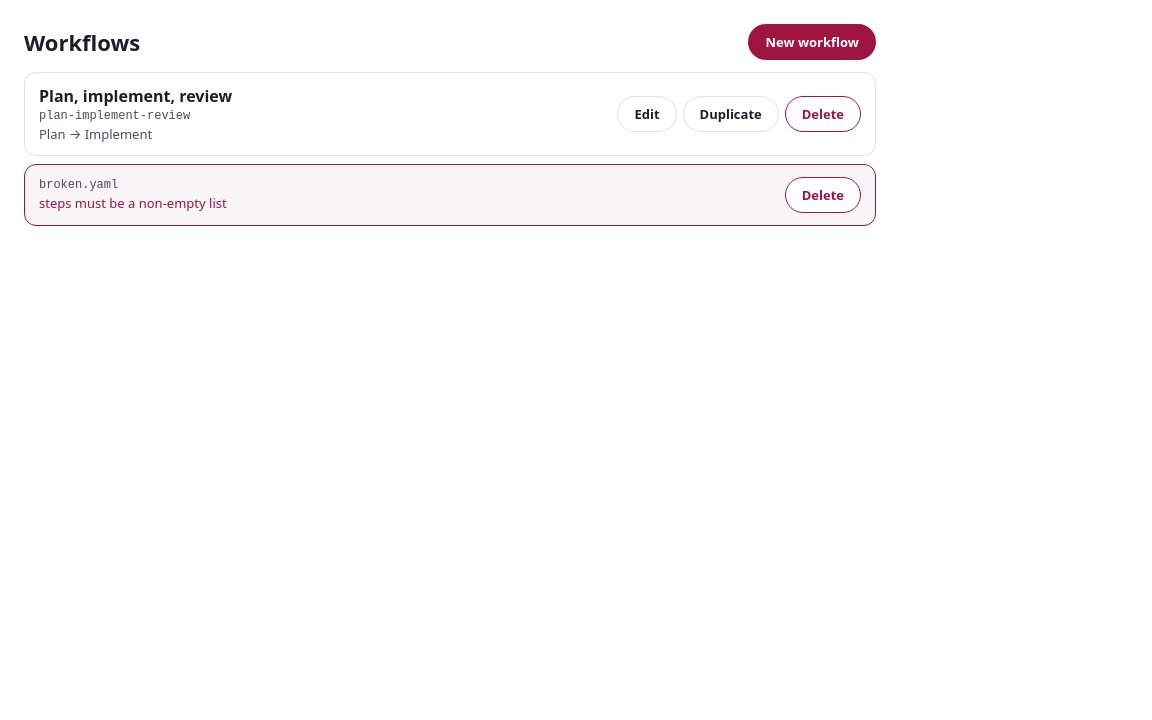
Test: WorkflowList › shows a delete error
Click the button with aria-label "Delete Plan, implement, review": (823, 114) [785,96,861,132]
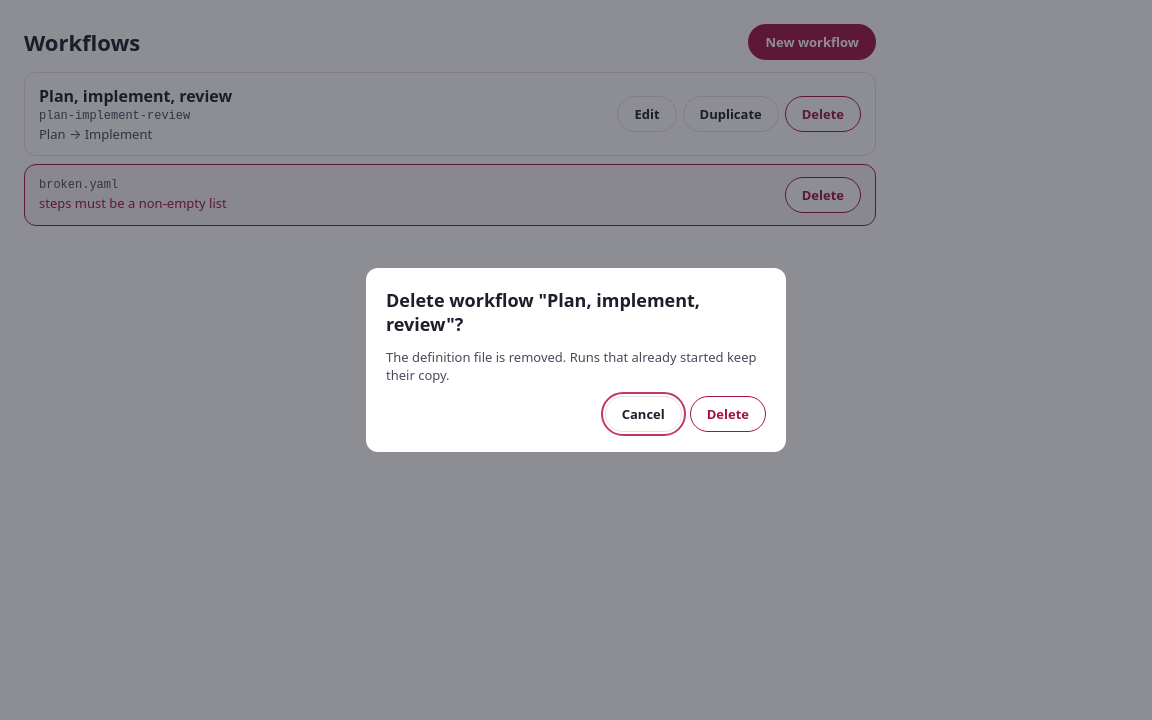
Click the button "Delete": (728, 414) [690,396,766,432]
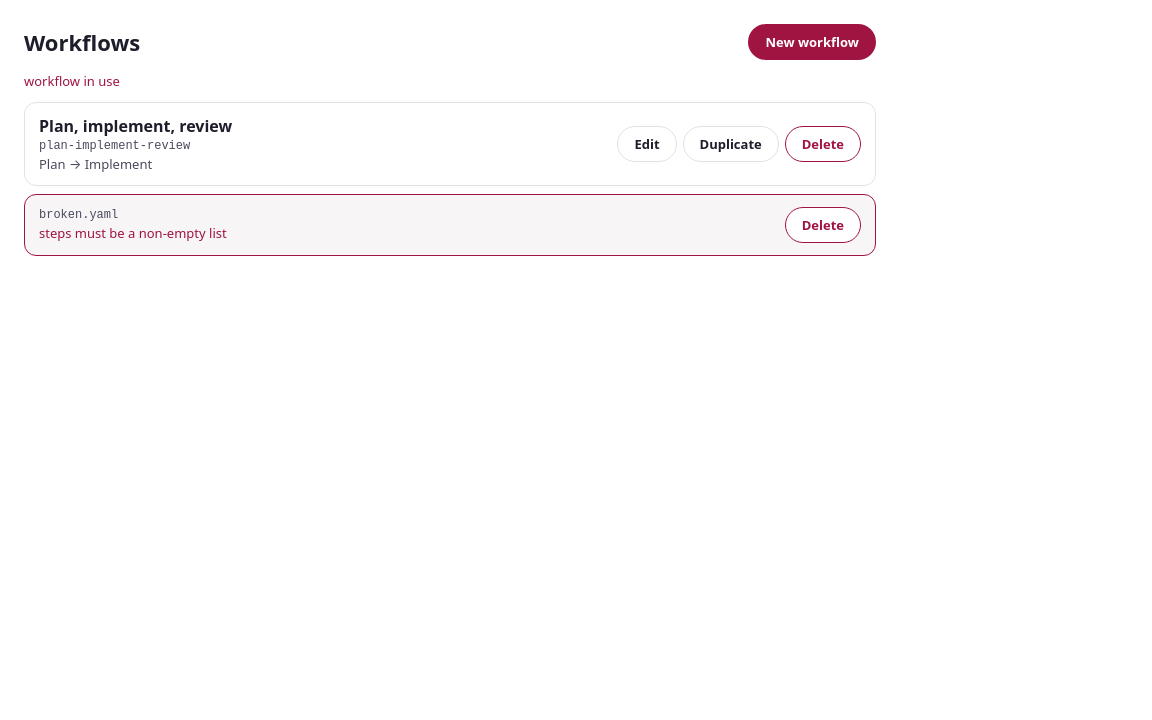
Now the message reads "workflow in use", box [24,72,120,90]
